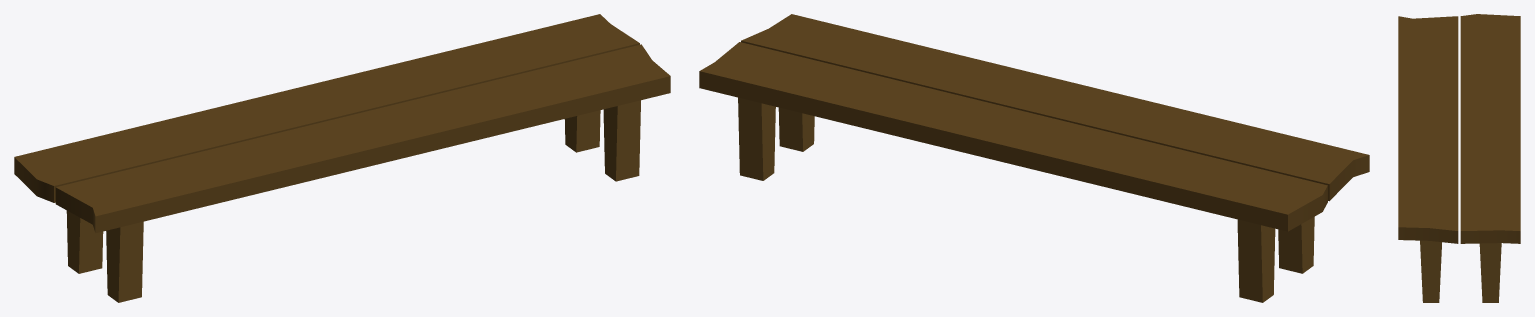
Rendered from mesh_becnh.fbx.
The picture shows the model from 3 angles, left to right: view 1: azimuth 30°, elevation 25°; view 2: azimuth 150°, elevation 25°; view 3: azimuth 270°, elevation 25°; orthographic projection. The views are drawn at different scales.
Visible parts, largest first — view 1: becnh; view 2: becnh; view 3: becnh.
Part boxes in pixels (x1,y1,x2,y2): becnh: [14, 14, 670, 302]; becnh: [699, 14, 1369, 302]; becnh: [1398, 14, 1520, 302].
Bounding box in the file's own units: 352 × 61.36 × 83.61.
Materials: 1 (1 with a texture image).
